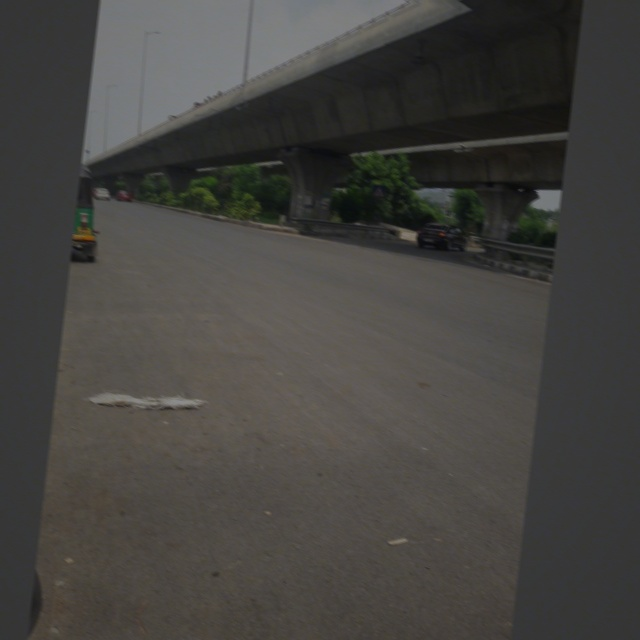Pedestrian_Crossing: (368, 180, 385, 198)
